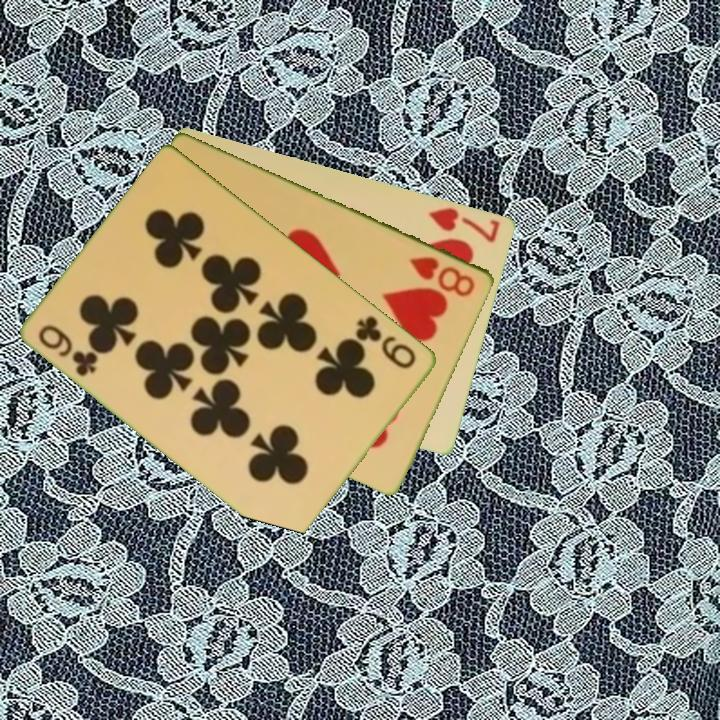7h: (425, 203, 504, 246)
8h: (406, 252, 479, 300)
9c: (352, 311, 420, 372), (35, 321, 102, 380)
